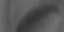LeftEyeFatigue: (16, 2, 62, 32)
